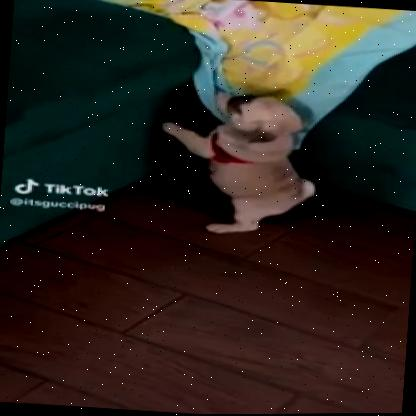dog: (158, 88, 348, 243)
